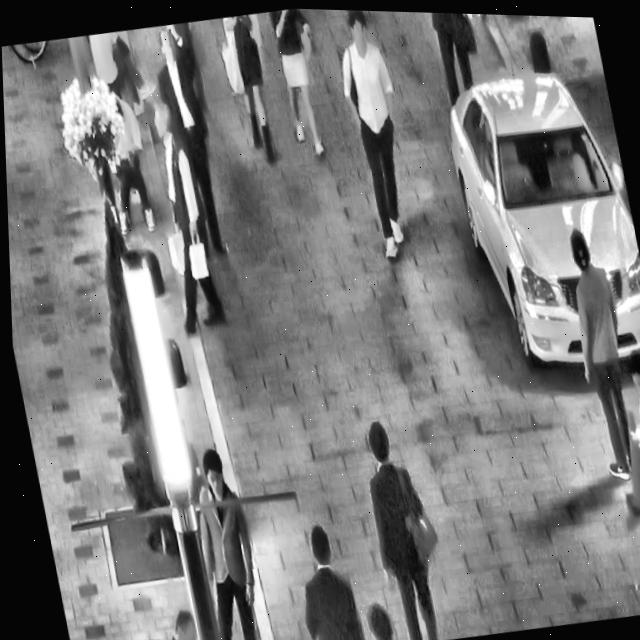light_vehicle: (429, 37, 640, 388)
